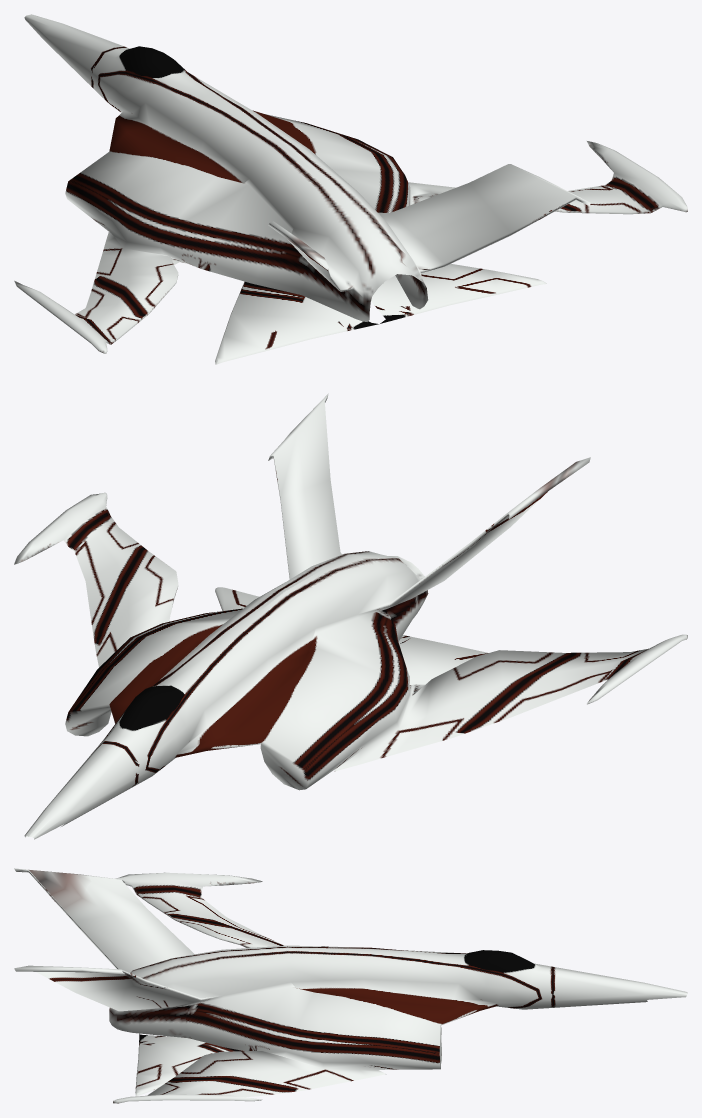
The model's file is retopologiaNavefbx.fbx.
3 views of the same model, one above another, from view 1: azimuth 30°, elevation 25°; view 2: azimuth 150°, elevation 25°; view 3: azimuth 270°, elevation 25° (orthographic). The views are drawn at different scales.
Parts seen in each view (by area): view 1: Plane.012; view 2: Plane.012; view 3: Plane.012.
Boxes of the visible parts, x1,y1,x2,y2 form: Plane.012: (14,14,687,364); Plane.012: (14,393,687,839); Plane.012: (14,868,687,1103).
Size of the model in its own units: 114 by 27.44 by 144.
